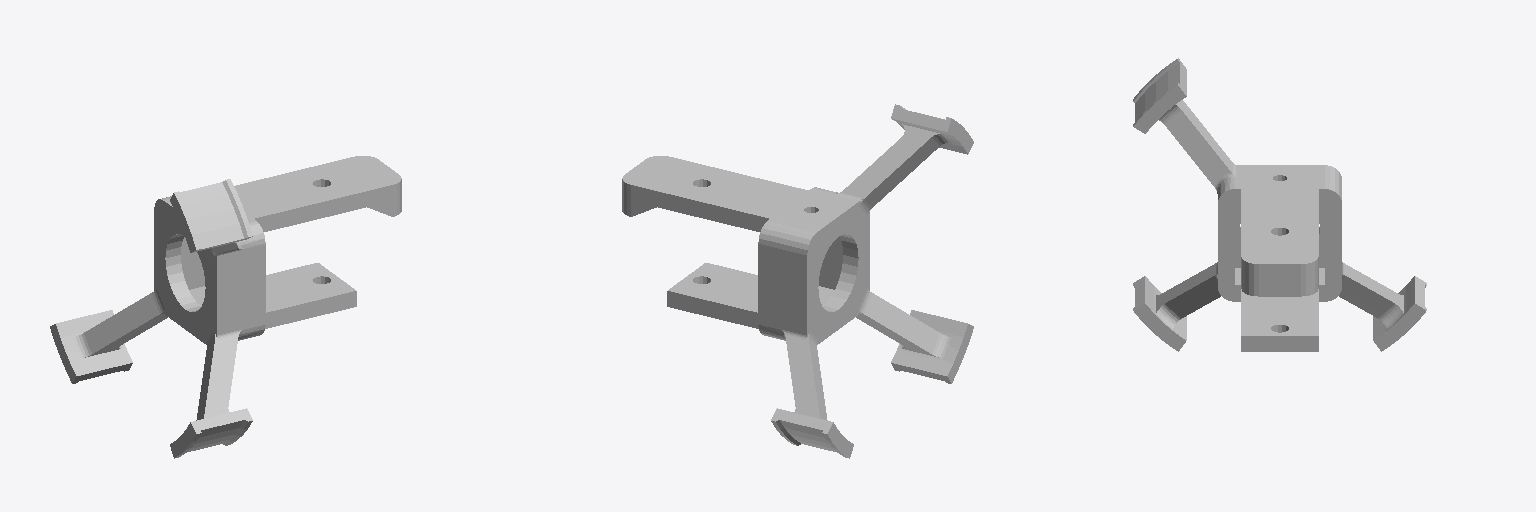
Rendered from kamera.obj.
The picture shows the model from 3 angles: view 1: azimuth 30°, elevation 25°; view 2: azimuth 150°, elevation 25°; view 3: azimuth 270°, elevation 25°; orthographic projection.
Visible parts, largest first — view 1: Solid1; view 2: Solid1; view 3: Solid1.
Part boxes in pixels (x1,y1,x2,y2): Solid1: (50,156,401,458); Solid1: (622,104,973,458); Solid1: (1133,58,1426,351).
Bounding box in the file's own units: 51.61 × 49.43 × 49.43.